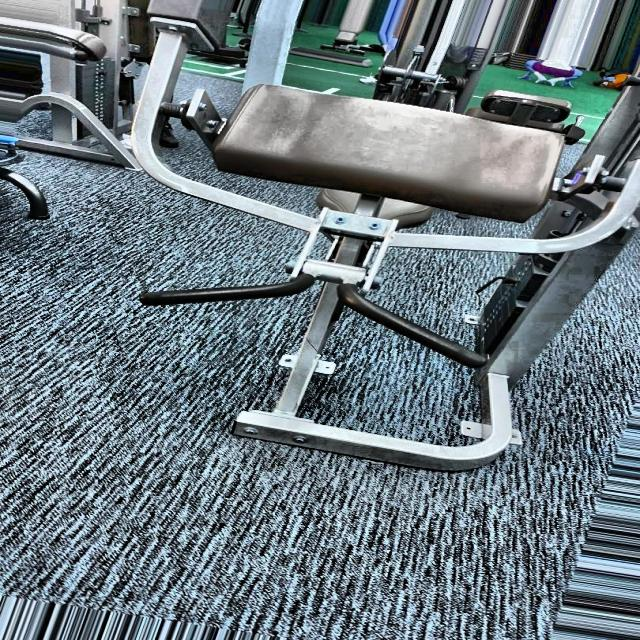bicep_curl_machine: (121, 52, 591, 489)
